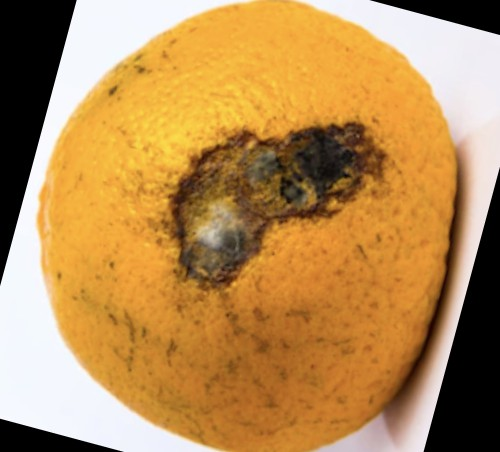rotten_orange: (37, 1, 458, 452)
